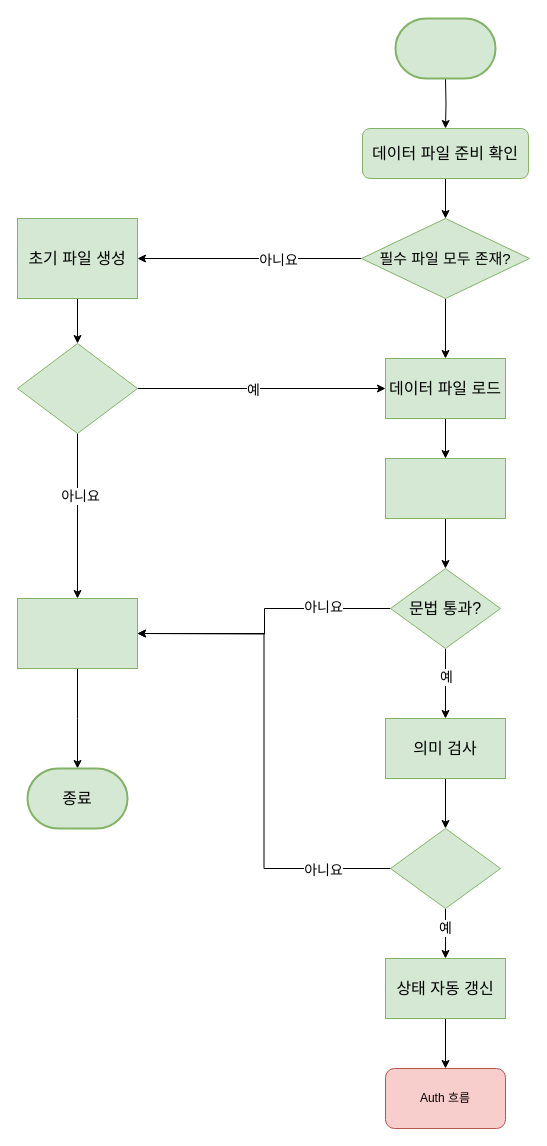
Image size: 547x1146. Some labels were removed from this diagram. The centre of each missing label's shape, as x and y in pixels:
"[파일 오류] 출력" goes at (77,633).
"문법 검사" goes at (445,488).
"시작" goes at (445,48).
"의미 통과?" goes at (445,868).
"파일 생성?" goes at (77,388).
